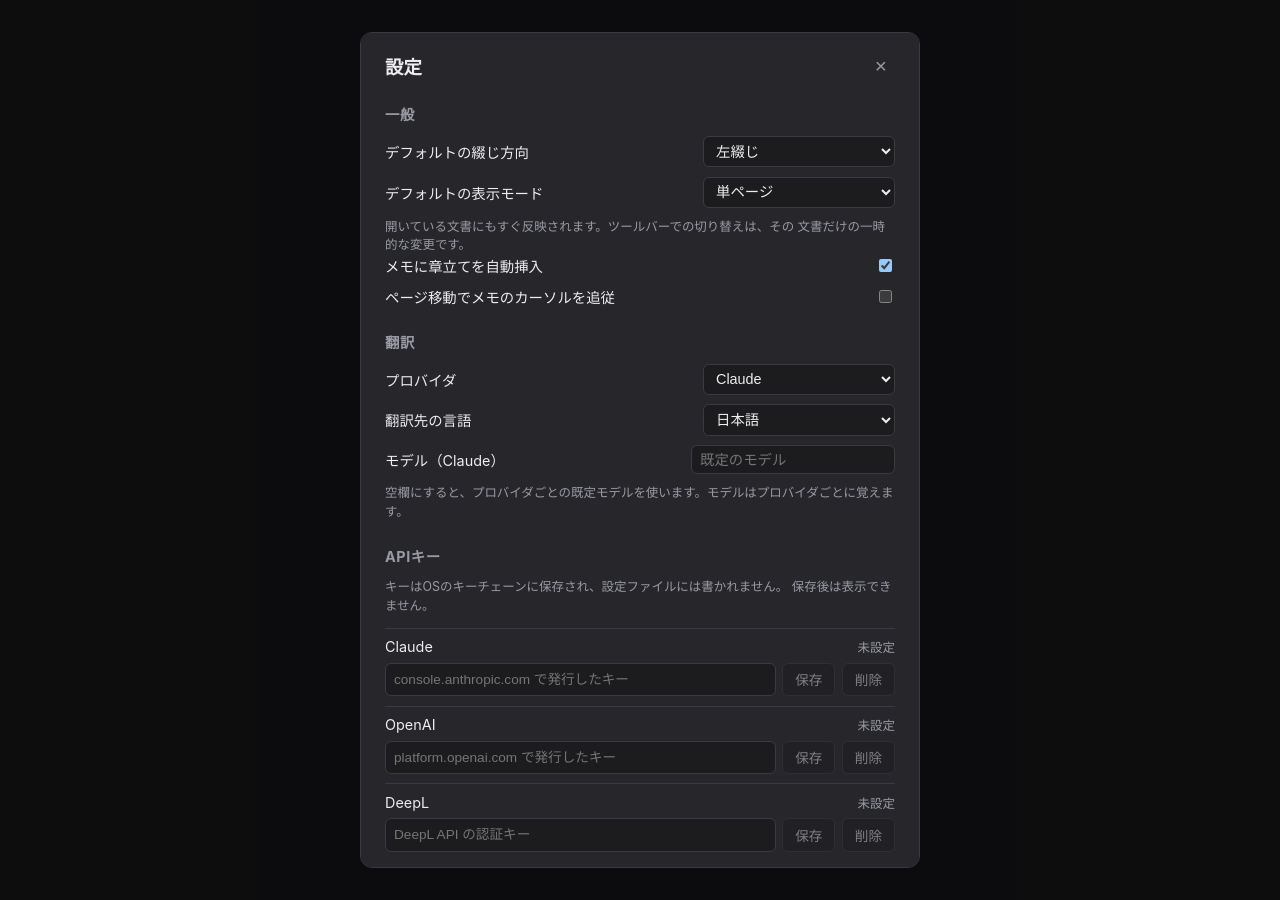
Test: SettingsDialog › keeps the typed key and explains why when the keychain refuses
In the password field labelled "DeepL": (580, 835) [385,818,776,852], type "deepl-key"
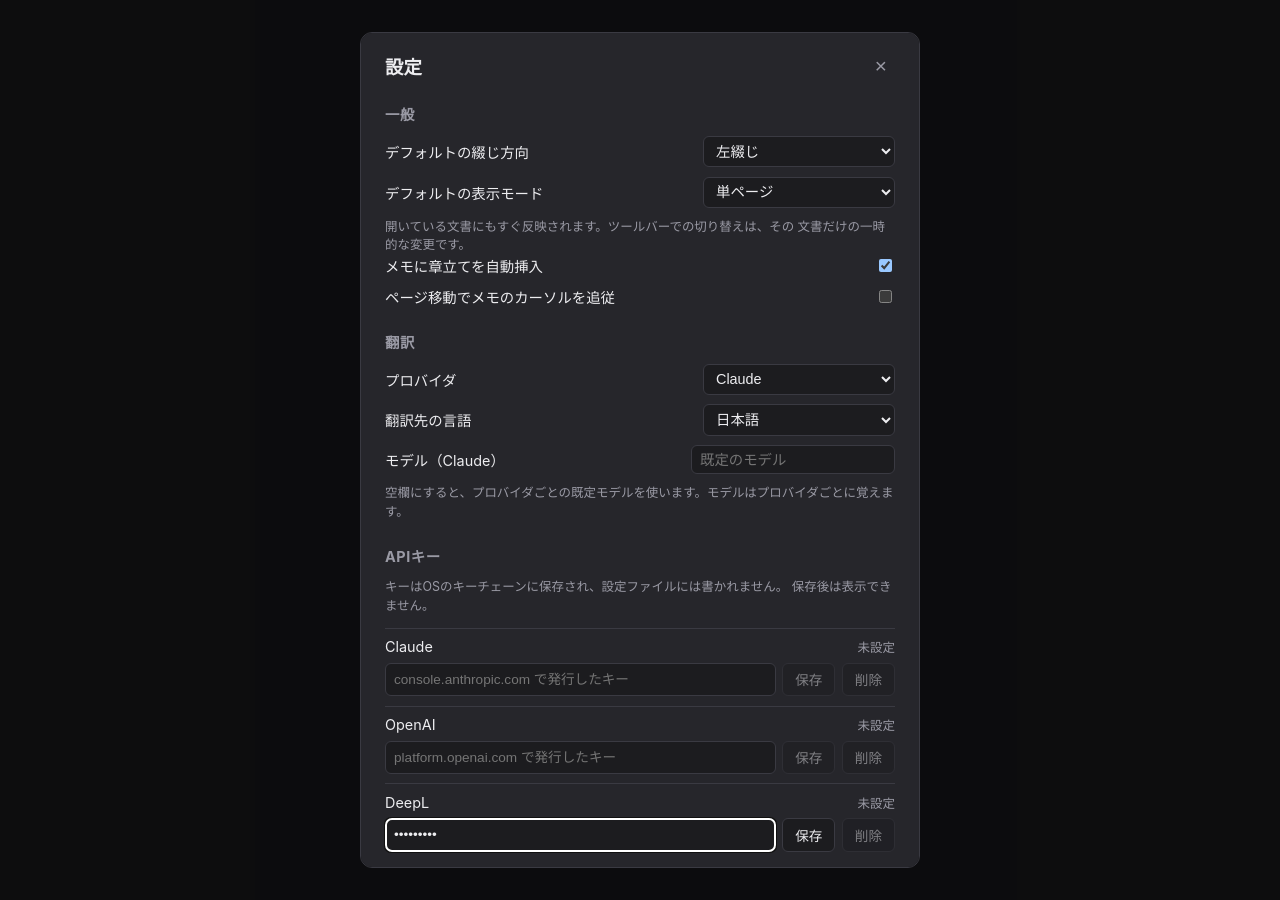
Click the 3rd button "保存": (809, 835) [782,818,835,852]
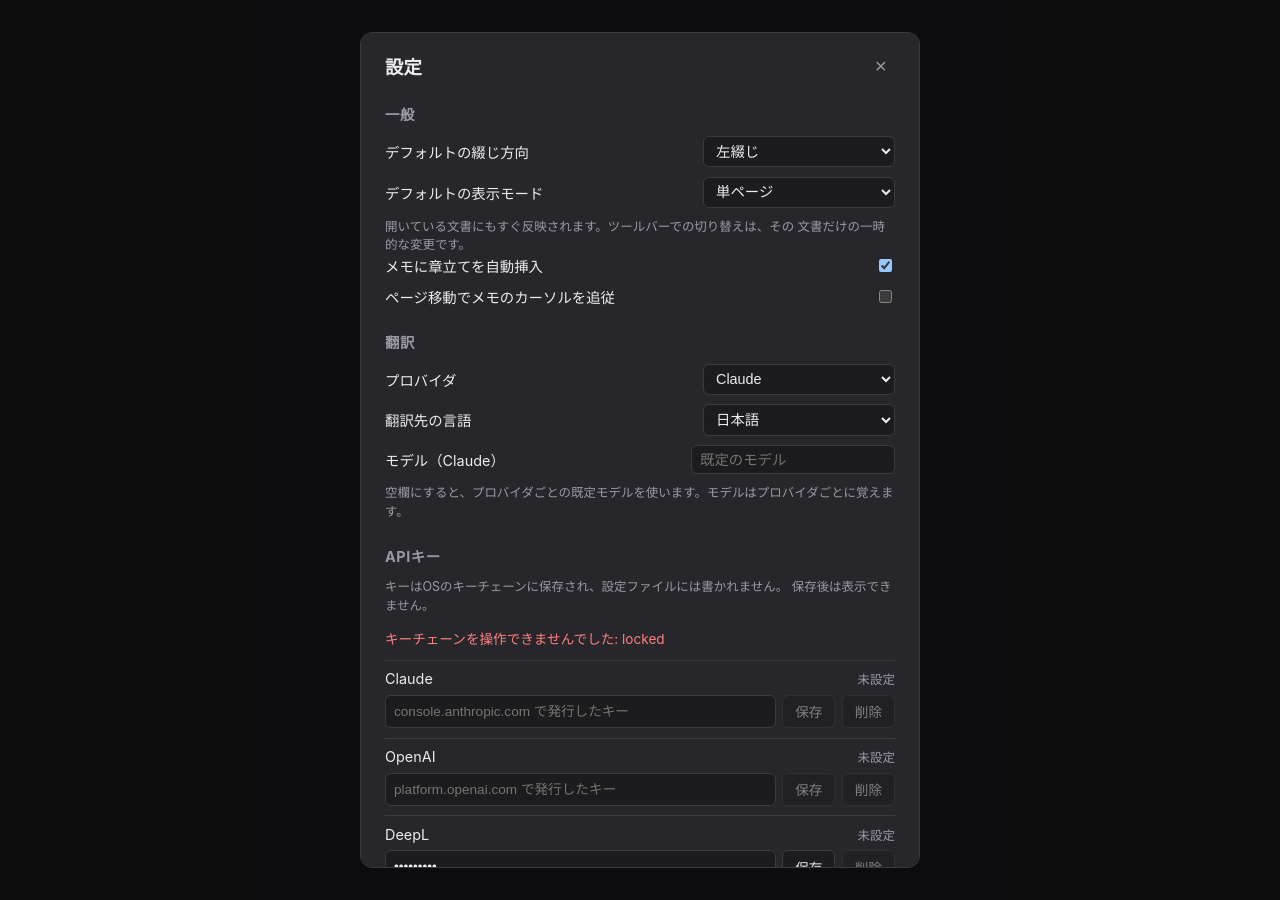
Expected: the text "キーチェーンを操作できませんでした: locked" is shown, [385,631,665,647]
